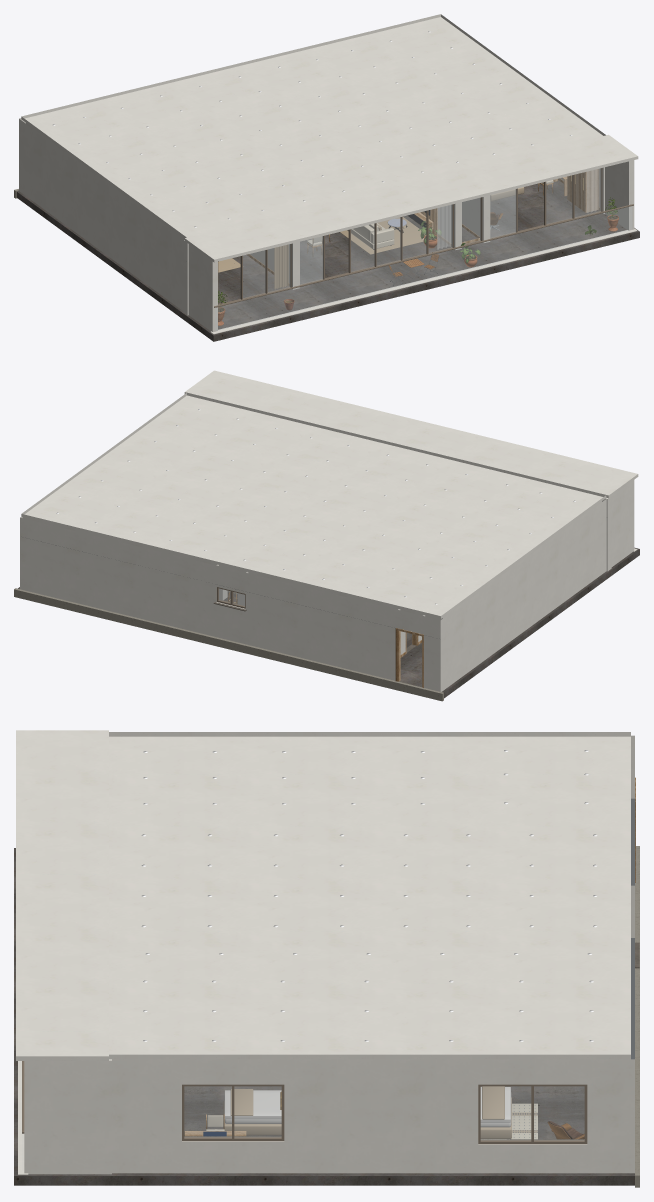
File: syrian-apartment.glb
3 renders of one model, top to bottom at view 1: azimuth 30°, elevation 25°; view 2: azimuth 150°, elevation 25°; view 3: azimuth 270°, elevation 25°, orthographic. The views are drawn at different scales.
Parts seen in each view (by area): view 1: ceiling-ceiling-plaster, apartment-structural-slab, shell-wall-plaster, balcony-glass-balustrade, upper-wall-plaster, trim-bronze-aluminium.001, shell-wall-plaster.001, balcony-slider-glass.014, balcony-slider-glass.012, balcony-slider-glass.013, joinery-oak-joinery, balcony-slider-glass.011 (+15 smaller); view 2: ceiling-ceiling-plaster, shell-wall-plaster, upper-wall-plaster, shell-facade-render, apartment-structural-slab, trim-oak-joinery-z0x0; view 3: ceiling-ceiling-plaster, shell-wall-plaster, upper-wall-plaster, apartment-structural-slab, window-glass.001, window-glass.002, trim-bronze-aluminium, upholstered-bed.001, upholstered-bed, shell-facade-render, rug-master, caps-wall-section-cut (+2 smaller).
Part boxes in pixels (box(x1,y1,x2,y2)): ceiling-ceiling-plaster: box(21, 14, 638, 262); apartment-structural-slab: box(16, 180, 639, 341); shell-wall-plaster: box(19, 138, 637, 334); balcony-glass-balustrade: box(215, 206, 632, 330); upper-wall-plaster: box(19, 118, 634, 279); trim-bronze-aluminium.001: box(218, 168, 602, 305); shell-wall-plaster.001: box(183, 167, 604, 315); balcony-slider-glass.014: box(575, 168, 601, 217); balcony-slider-glass.012: box(490, 189, 516, 238); balcony-slider-glass.013: box(546, 175, 572, 223); joinery-oak-joinery: box(562, 169, 598, 212); balcony-slider-glass.011: box(491, 189, 515, 237); ceiling-ceiling-plaster: box(21, 370, 638, 619); shell-wall-plaster: box(20, 498, 637, 691); upper-wall-plaster: box(20, 480, 634, 638); shell-facade-render: box(14, 588, 443, 701); apartment-structural-slab: box(18, 547, 639, 698); trim-oak-joinery-z0x0: box(395, 628, 423, 687); ceiling-ceiling-plaster: box(16, 730, 630, 1060); shell-wall-plaster: box(18, 1061, 634, 1174); upper-wall-plaster: box(24, 735, 634, 1089); apartment-structural-slab: box(14, 848, 634, 1185); window-glass.001: box(481, 1086, 584, 1140); window-glass.002: box(184, 1086, 281, 1137); trim-bronze-aluminium: box(22, 1061, 587, 1144); upholstered-bed.001: box(223, 1089, 281, 1135); upholstered-bed: box(480, 1086, 511, 1138); shell-facade-render: box(635, 846, 639, 1187); rug-master: box(481, 1103, 537, 1139); caps-wall-section-cut: box(631, 798, 634, 1059).
Size of the model in its own units: 18.9 by 3.46 by 15.17.
Materials: 63 (41 with a texture image).
